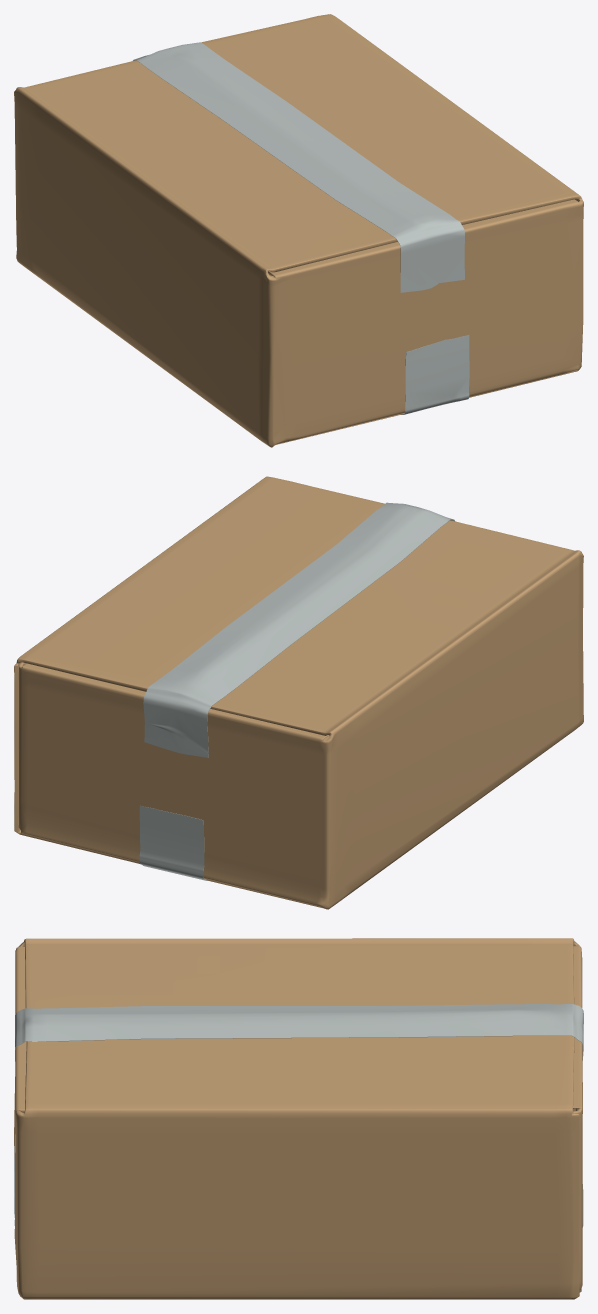
Rendered from box_flat_a02.glb.
3 views of the same model, one above another, from view 1: azimuth 30°, elevation 25°; view 2: azimuth 150°, elevation 25°; view 3: azimuth 270°, elevation 25° (orthographic). The views are drawn at different scales.
Bounding box in the file's own units: 0.1505 × 0.0836 × 0.2118.
